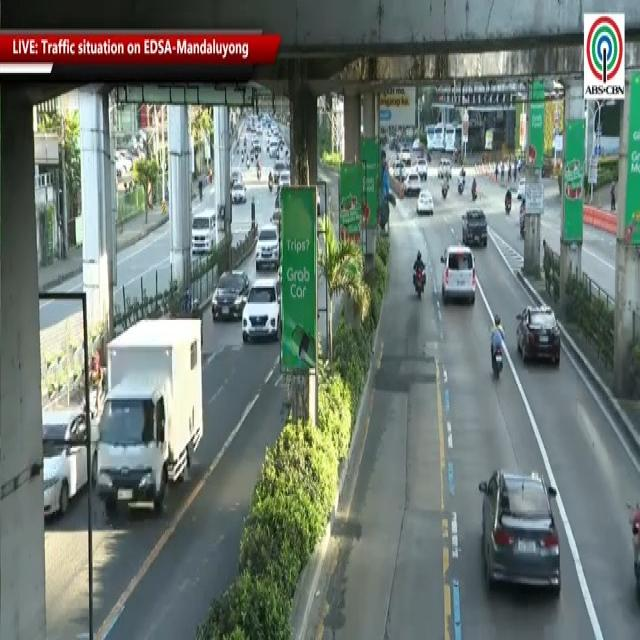car: (479, 458, 567, 602), (34, 396, 105, 524), (241, 272, 288, 352), (518, 295, 563, 375), (439, 242, 477, 311), (210, 270, 244, 327), (459, 202, 491, 250), (254, 220, 282, 268), (191, 212, 219, 256), (417, 188, 435, 222)
motorbike: (83, 349, 107, 412), (487, 314, 508, 381), (411, 247, 429, 303), (186, 292, 201, 322)
truck: (99, 320, 201, 508)
